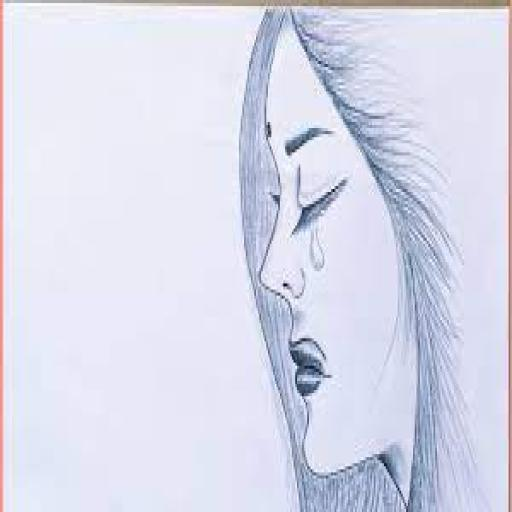person: (230, 0, 477, 509)
